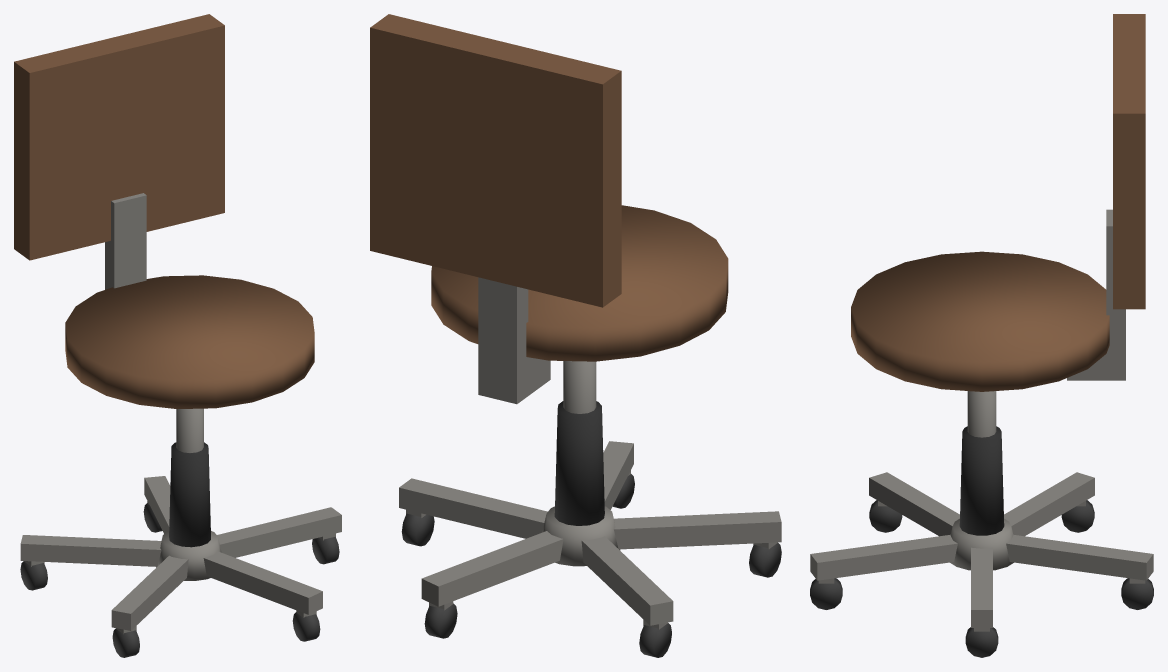
Rendered from DeskChair.gltf.
The picture shows the model from 3 angles, left to right: view 1: azimuth 30°, elevation 25°; view 2: azimuth 150°, elevation 25°; view 3: azimuth 270°, elevation 25°; orthographic projection. The views are drawn at different scales.
Visible parts, largest first — view 1: A_DeskChair; view 2: A_DeskChair; view 3: A_DeskChair.
Boxes of the visible parts, x1,y1,x2,y2 form: A_DeskChair: (14,14,341,657); A_DeskChair: (370,14,781,657); A_DeskChair: (810,14,1153,657).
Size of the model in its own units: 0.4984 by 0.88 by 0.5255.
